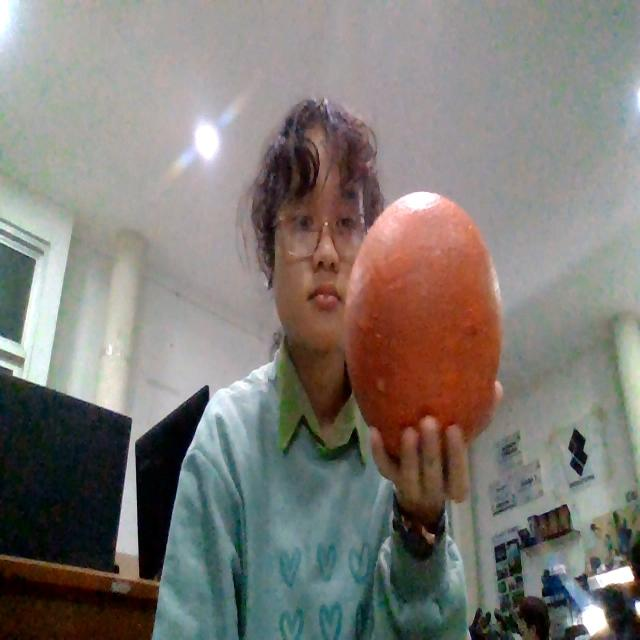ball: (350, 201, 502, 451)
